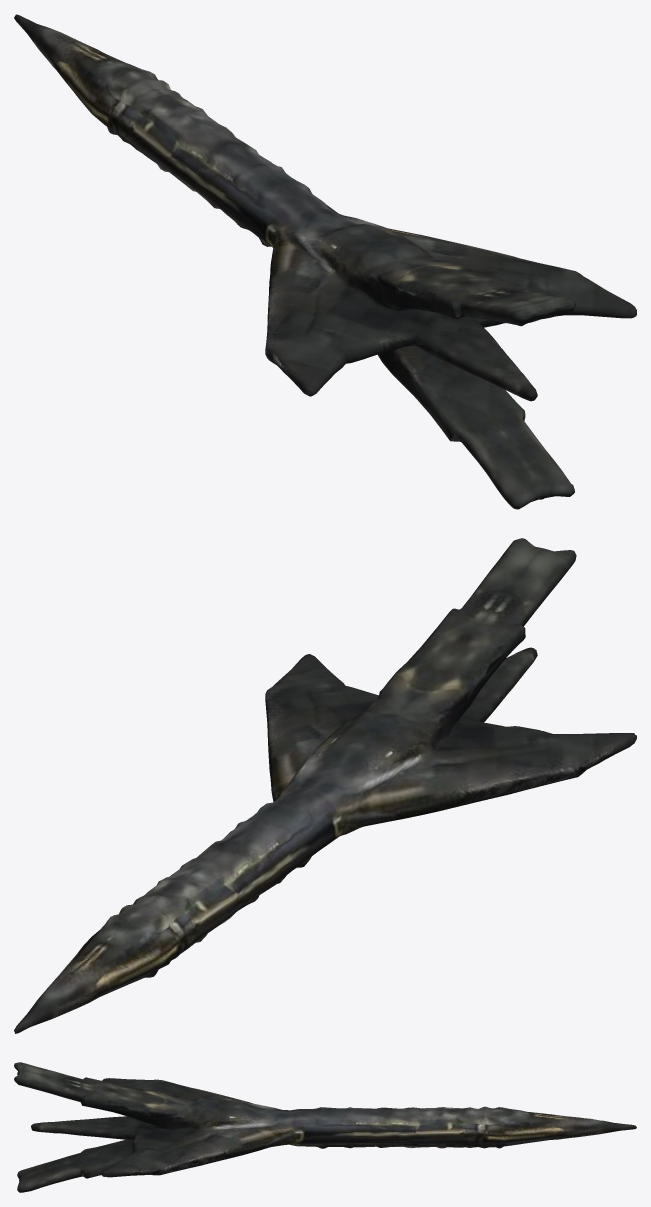
Rendered from kaijurai_dart.glb.
The picture shows the model from 3 angles, top to bottom: view 1: azimuth 30°, elevation 25°; view 2: azimuth 150°, elevation 25°; view 3: azimuth 270°, elevation 25°; orthographic projection. The views are drawn at different scales.
Parts seen in each view (by area): view 1: kaijurai_dart_fighter; view 2: kaijurai_dart_fighter; view 3: kaijurai_dart_fighter.
Part boxes in pixels (left/top/right/bottom): kaijurai_dart_fighter: left=14, top=14, right=636, bottom=509; kaijurai_dart_fighter: left=14, top=538, right=636, bottom=1033; kaijurai_dart_fighter: left=14, top=1062, right=636, bottom=1192.
Size of the model in its own units: 0.0907 by 0.0518 by 0.2533.
1 material, 1 textured.
